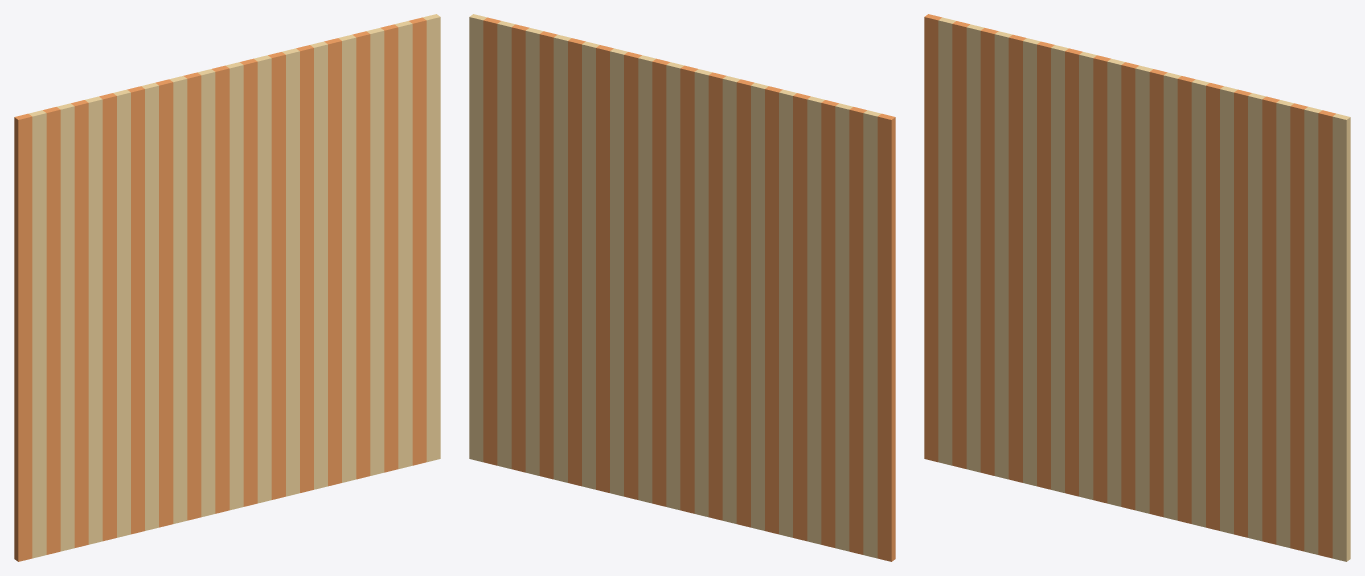
Rendered from wall.obj.
The picture shows the model from 3 angles, left to right: view 1: azimuth 30°, elevation 25°; view 2: azimuth 150°, elevation 25°; view 3: azimuth 330°, elevation 25°; orthographic projection.
Bounding box in the file's own units: 6 × 6 × 0.1.
Materials: 1 (1 with a texture image).
